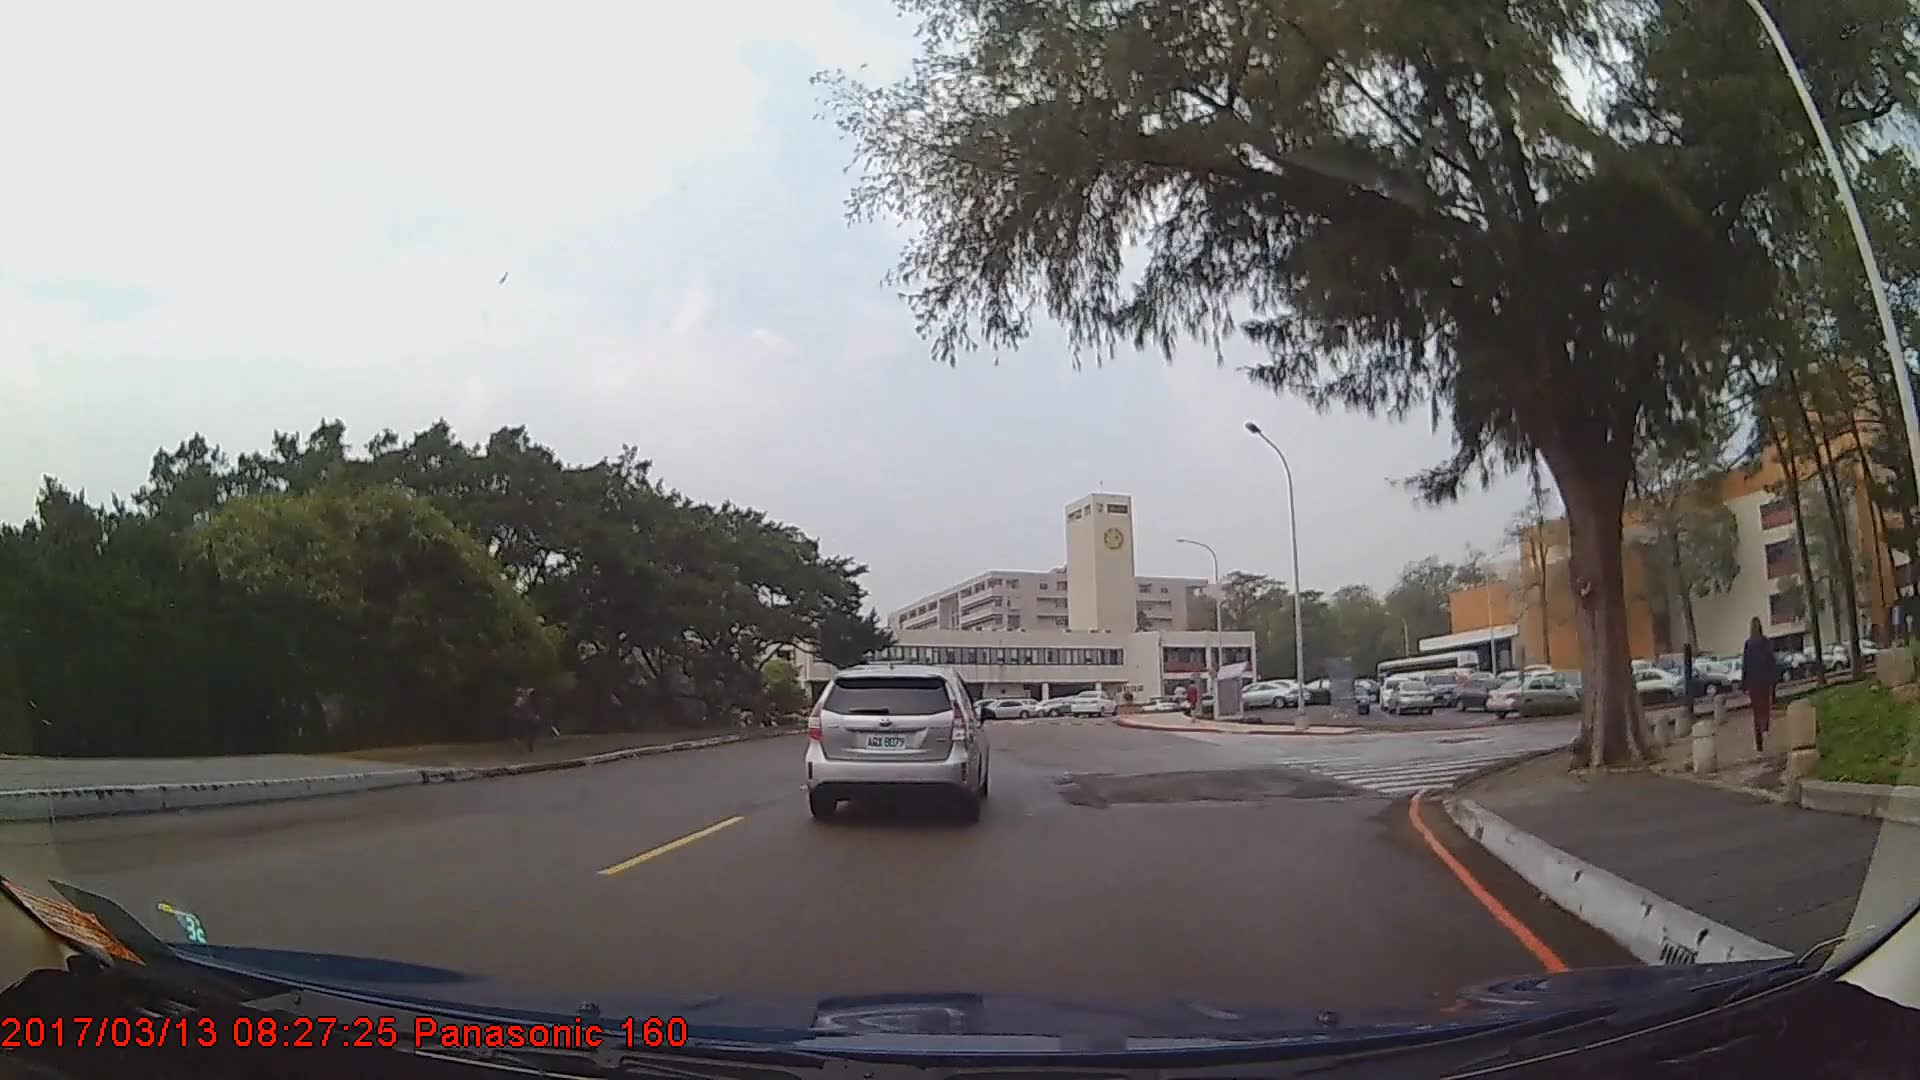pedestrian: (1730, 620, 1775, 754), (509, 670, 547, 750)
vehicle: (807, 662, 987, 820), (1480, 674, 1573, 721), (1596, 666, 1684, 701), (1447, 676, 1520, 712), (1230, 681, 1299, 706), (1386, 678, 1431, 713), (973, 697, 1040, 721), (1068, 688, 1117, 718), (1419, 671, 1459, 706), (1336, 684, 1369, 713)
